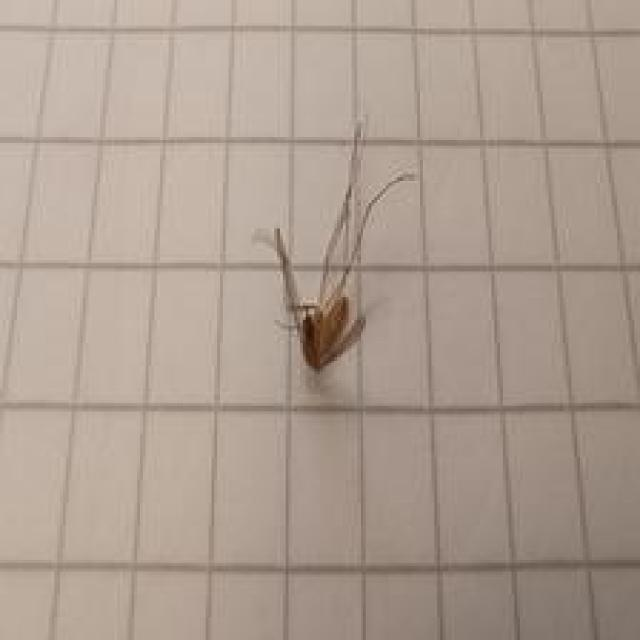Culex: (253, 117, 418, 374)
